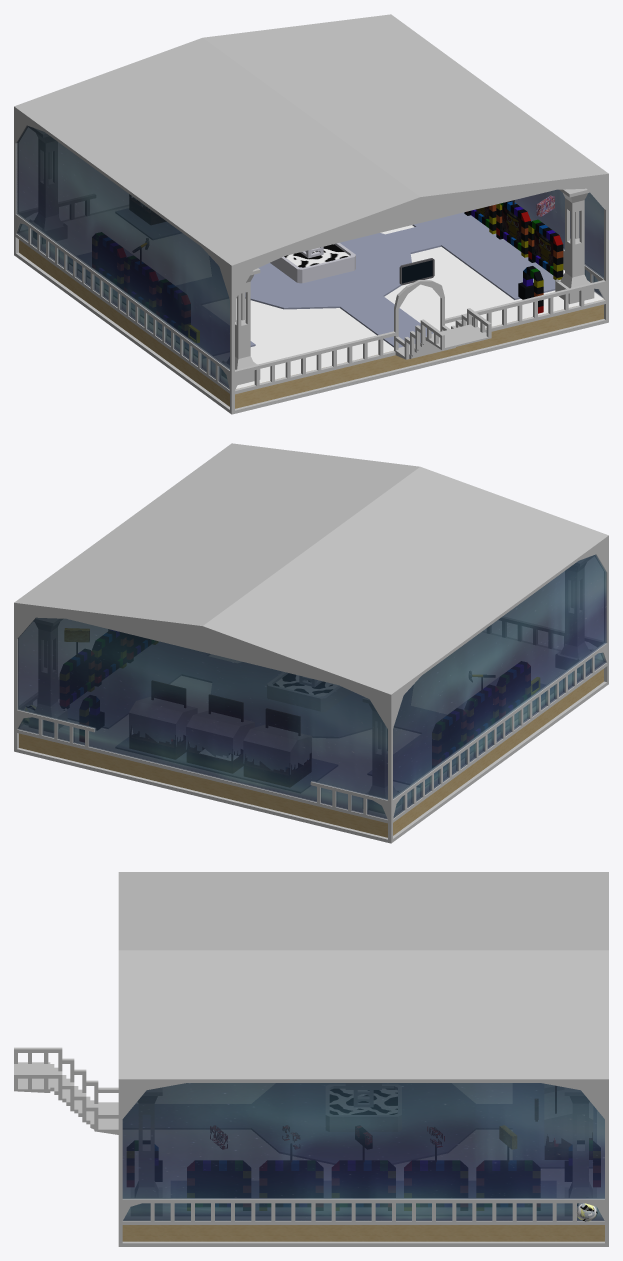
The picture shows the model from 3 angles, top to bottom: view 1: azimuth 30°, elevation 25°; view 2: azimuth 150°, elevation 25°; view 3: azimuth 270°, elevation 25°; orthographic projection. The views are drawn at different scales.
Parts seen in each view (by area): view 1: Ceiling1, Ceiling2, Window6, Window4, Floor2, Floor1, Path3, Central1, Ceiling3, Window8, Window7, Path15 (+19 smaller); view 2: Ceiling1, Window3, Window1, Ceiling2, Window6, Window4, Floor2, Floor1, Path3, Ceiling3, Central1, Ceiling4 (+20 smaller); view 3: Ceiling2, Window9, Window7, Ceiling1, Floor2, Floor1, Central1, Path15, Path3, Ceiling3, Pole105, Path9 (+17 smaller).
Boxes of the visible parts, x1,y1,x2,y2 form: Ceiling1: (14,38,420,265); Ceiling2: (203,14,608,219); Window6: (16,125,229,388); Window4: (17,126,229,388); Floor2: (20,207,603,388); Floor1: (19,240,603,408); Path3: (412,212,563,299); Central1: (250,237,399,307); Ceiling3: (14,252,608,414); Window8: (515,190,603,297); Window7: (515,190,603,295); Path15: (328,287,433,347); Ceiling1: (202,467,608,694); Window3: (18,618,387,819); Window1: (18,618,387,818); Ceiling2: (14,443,419,648); Window6: (393,554,606,817); Window4: (393,555,605,817); Floor2: (20,633,602,817); Floor1: (19,669,603,837); Path3: (68,642,209,728); Ceiling3: (14,681,608,843); Central1: (221,667,371,735); Ceiling4: (14,535,608,697); Ceiling2: (118,950,608,1079); Window9: (123,1083,604,1220); Window7: (123,1083,604,1220); Ceiling1: (118,872,608,950); Floor2: (123,1083,604,1218); Floor1: (122,1225,604,1241); Central1: (280,1083,447,1150); Path15: (123,1104,278,1128); Path3: (171,1181,555,1215); Ceiling3: (118,1241,608,1246); Pole105: (122,1198,604,1203); Path9: (513,1083,596,1167).
Size of the model in its own units: 123 by 53 by 148.
